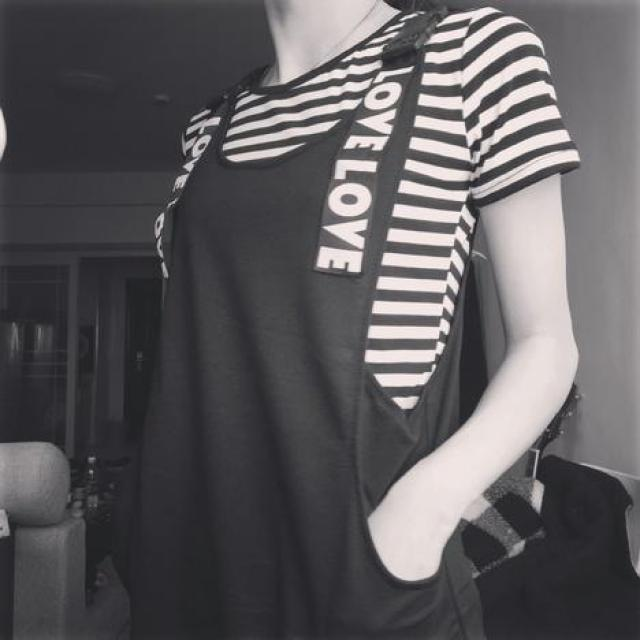short-sleeve-dress: (148, 30, 567, 629)
